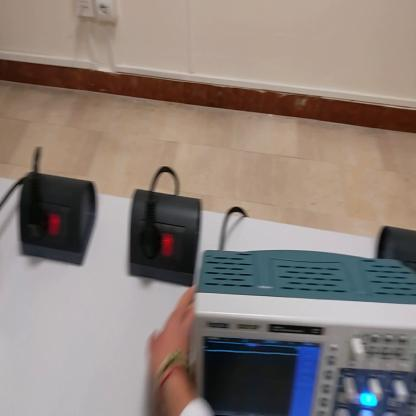hand: (147, 281, 199, 386)
oscilloscope: (198, 249, 416, 415)
socket: (129, 188, 208, 287), (19, 174, 98, 266)
